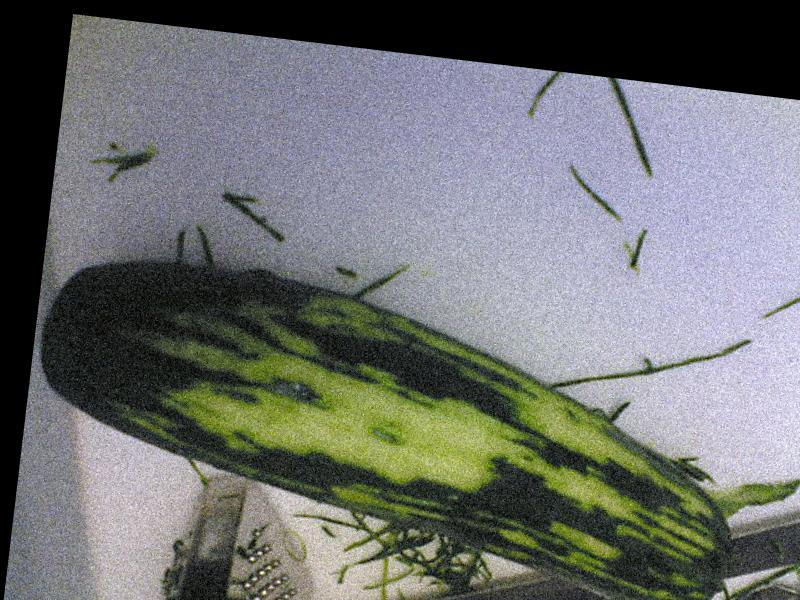Cucumber: (17, 246, 759, 600)
